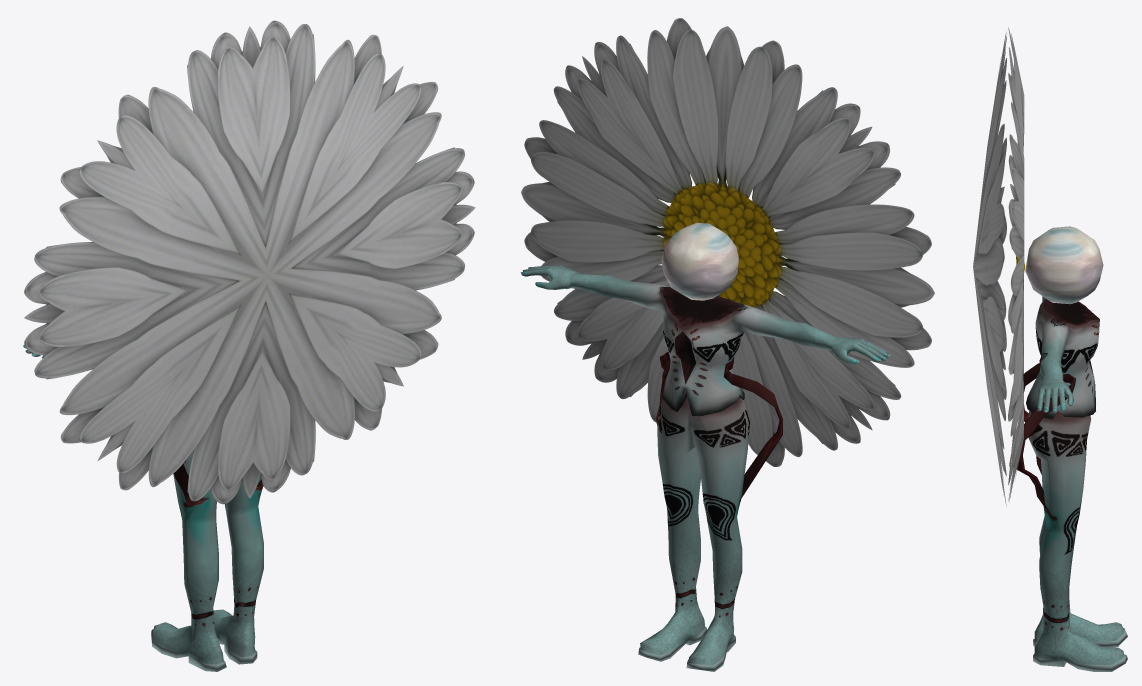
File: Megeryte.glb
3 views of the same model, side by side, from view 1: azimuth 30°, elevation 25°; view 2: azimuth 150°, elevation 25°; view 3: azimuth 270°, elevation 25° (orthographic). The views are drawn at different scales.
Parts seen in each view (by area): view 1: flower, Body; view 2: flower, Body, Head; view 3: Body, flower, Head.
Part boxes in pixels (x1,y1,x2,y2): flower: [24, 20, 475, 504]; Body: [23, 345, 263, 671]; flower: [521, 18, 934, 466]; Body: [520, 265, 890, 671]; Head: [661, 223, 738, 300]; Body: [1014, 296, 1127, 671]; flower: [973, 27, 1025, 505]; Head: [1025, 226, 1103, 304].
Size of the model in its own units: 2.02 by 2.72 by 0.62.
3 materials, 3 textured.
